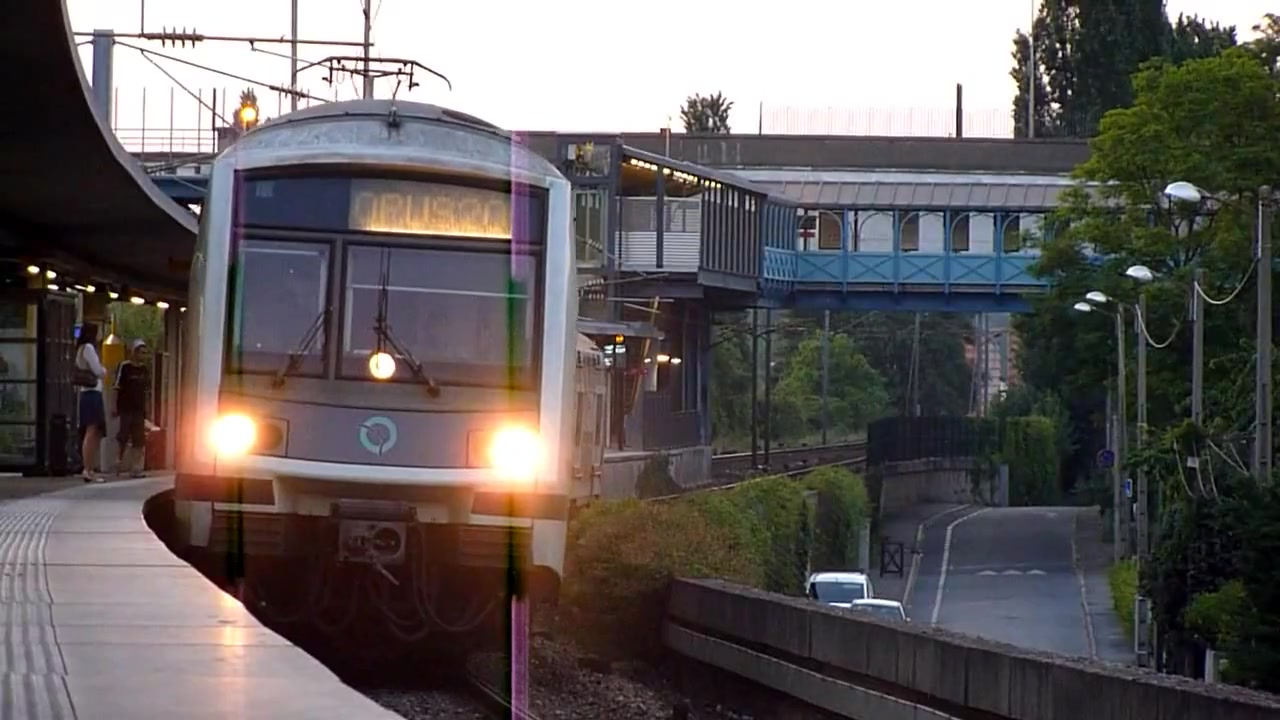train: (169, 95, 614, 619)
